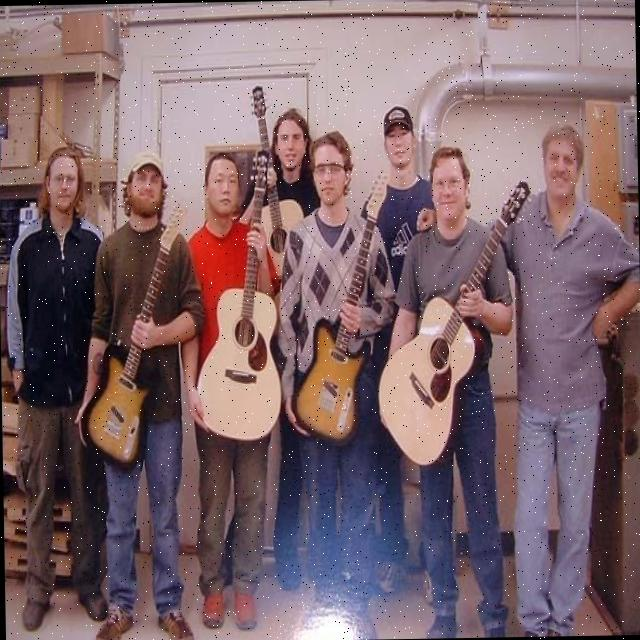guitar: (372, 174, 536, 476), (72, 196, 182, 478), (186, 144, 287, 443), (290, 164, 391, 446), (244, 83, 306, 277)
